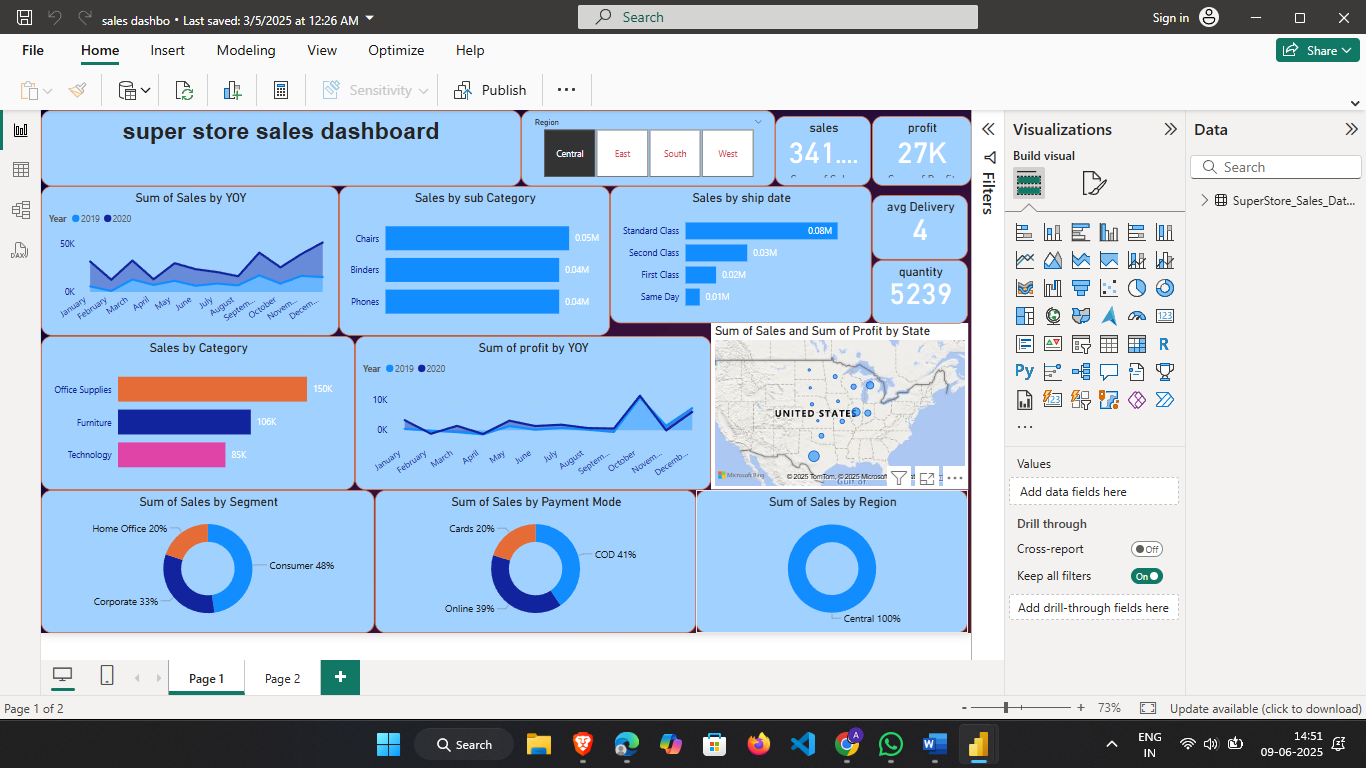

This screenshot's page, from the dashboard's own definition file:
{"tool":"powerbi","page":{"name":"Page 1","canvas":[1280,720],"ordinal":0},"visuals":[{"type":"clusteredBarChart","title":"Sales by sub Category","fields":{"Category":["SuperStore_Sales_Dataset.Sub-Category"],"Y":["Sum(SuperStore_Sales_Dataset.Sales)"]},"box":[410.4,105.1,373,205.9],"z":0},{"type":"clusteredBarChart","title":"Sales by Category","fields":{"Category":["SuperStore_Sales_Dataset.Category"],"Y":["Sum(SuperStore_Sales_Dataset.Sales)"]},"box":[0,311,432,211.7],"z":1000},{"type":"clusteredBarChart","title":"Sales by ship date","fields":{"Category":["SuperStore_Sales_Dataset.Ship Mode"],"Y":["Sum(SuperStore_Sales_Dataset.Sales)"]},"box":[783.4,105.1,360,188.6],"z":2000},{"type":"stackedAreaChart","title":"Sum of Sales by YOY","fields":{"Y":["Sum(SuperStore_Sales_Dataset.Sales)"],"Series":["SuperStore_Sales_Dataset.Order Date.Variation.Date Hierarchy.Year"],"Category":["SuperStore_Sales_Dataset.Order Date.Variation.Date Hierarchy.Month","SuperStore_Sales_Dataset.Order Date.Variation.Date Hierarchy.Day"]},"box":[0,105.1,410.4,205.9],"z":3000},{"type":"stackedAreaChart","title":"Sum of profit by YOY","fields":{"Series":["SuperStore_Sales_Dataset.Order Date.Variation.Date Hierarchy.Year"],"Category":["SuperStore_Sales_Dataset.Order Date.Variation.Date Hierarchy.Month","SuperStore_Sales_Dataset.Order Date.Variation.Date Hierarchy.Day"],"Y":["Sum(SuperStore_Sales_Dataset.Profit)"]},"box":[432,311,489.6,211.7],"z":4000},{"type":"map","fields":{"Category":["SuperStore_Sales_Dataset.State"],"Size":["Sum(SuperStore_Sales_Dataset.Sales)"]},"box":[921.6,293.8,354.2,229],"z":5000},{"type":"donutChart","fields":{"Category":["SuperStore_Sales_Dataset.Segment"],"Y":["Sum(SuperStore_Sales_Dataset.Sales)"]},"box":[0,522.7,459.4,197.3],"z":6000},{"type":"donutChart","fields":{"Category":["SuperStore_Sales_Dataset.Payment Mode"],"Y":["Sum(SuperStore_Sales_Dataset.Sales)"]},"box":[459.4,522.7,442.1,197.3],"z":7000},{"type":"donutChart","fields":{"Category":["SuperStore_Sales_Dataset.Region"],"Y":["Sum(SuperStore_Sales_Dataset.Sales)"]},"box":[901.4,522.7,374.4,197.3],"z":8000},{"type":"slicer","fields":{"Values":["SuperStore_Sales_Dataset.Region"]},"box":[661,0,349.9,105.1],"z":9000},{"type":"textbox","box":[0,0,661,105.1],"z":10000},{"type":"card","title":"sales","fields":{"Values":["Sum(SuperStore_Sales_Dataset.Sales)"]},"box":[1010.9,8.6,132.5,96.5],"z":11000},{"type":"card","title":"profit","fields":{"Values":["Sum(SuperStore_Sales_Dataset.Profit)"]},"box":[1143.4,8.6,136.8,96.5],"z":12000},{"type":"card","title":"quantity","fields":{"Values":["Sum(SuperStore_Sales_Dataset.Quantity)"]},"box":[1143.4,205.9,132.5,87.8],"z":13000},{"type":"card","title":"avg Delivery","fields":{"Values":["Avg(SuperStore_Sales_Dataset.AvgDelivery)"]},"box":[1143.4,116.6,132.5,89.3],"z":14000}]}

Visuals, with their boxes on the page's 1280x720 design canvas (x1, y1, x2, y2). These are canvas units, not pixel positions in the 1366x768 screenshot, which may show the page scaled, cropped or inside an application window:
"Sales by sub Category" clusteredBarChart: 410,105,783,311
"Sales by Category" clusteredBarChart: 0,311,432,523
"Sales by ship date" clusteredBarChart: 783,105,1143,294
"Sum of Sales by YOY" stackedAreaChart: 0,105,410,311
"Sum of profit by YOY" stackedAreaChart: 432,311,922,523
map - SuperStore_Sales_Dataset.State x Sum(SuperStore_Sales_Dataset.Sales): 922,294,1276,523
donutChart - SuperStore_Sales_Dataset.Segment x Sum(SuperStore_Sales_Dataset.Sales): 0,523,459,720
donutChart - SuperStore_Sales_Dataset.Payment Mode x Sum(SuperStore_Sales_Dataset.Sales): 459,523,902,720
donutChart - SuperStore_Sales_Dataset.Region x Sum(SuperStore_Sales_Dataset.Sales): 901,523,1276,720
slicer - SuperStore_Sales_Dataset.Region: 661,0,1011,105
textbox: 0,0,661,105
"sales" card: 1011,9,1143,105
"profit" card: 1143,9,1280,105
"quantity" card: 1143,206,1276,294
"avg Delivery" card: 1143,117,1276,206
